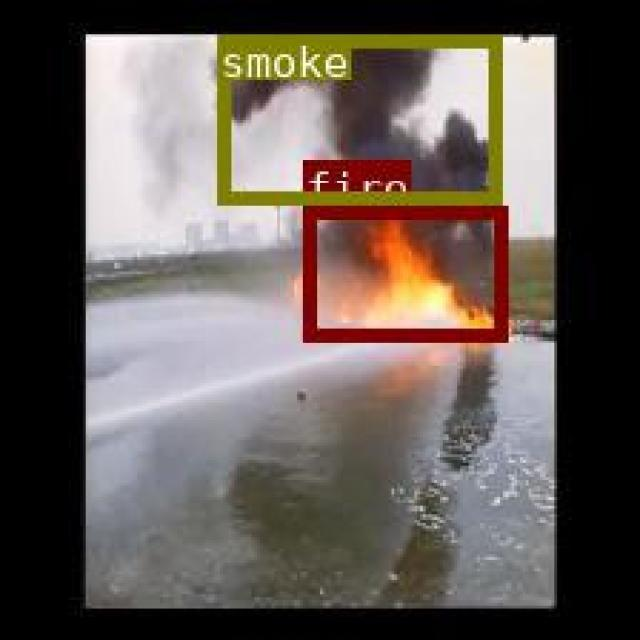fire: (303, 203, 505, 339)
smoke: (216, 33, 499, 201)
